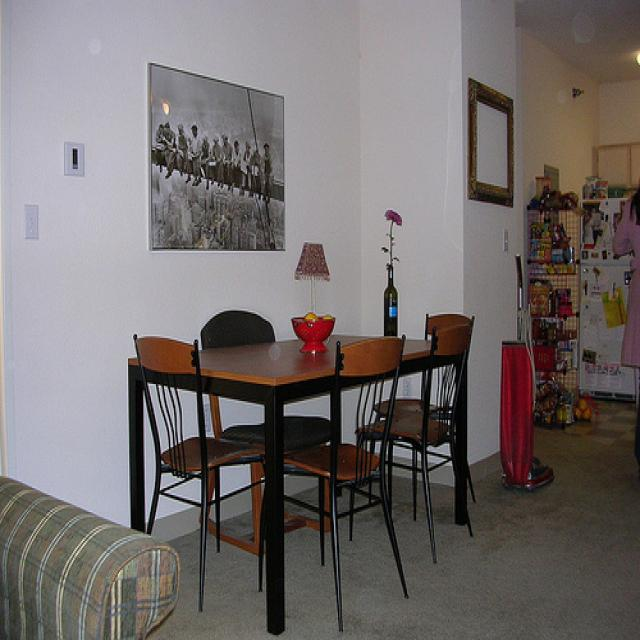bottle: (383, 262, 401, 339)
chair: (258, 334, 411, 632), (133, 330, 268, 612), (198, 310, 334, 557), (349, 315, 476, 566), (369, 312, 478, 523)
diningtable: (127, 334, 470, 638)
sofa: (1, 475, 181, 639)
